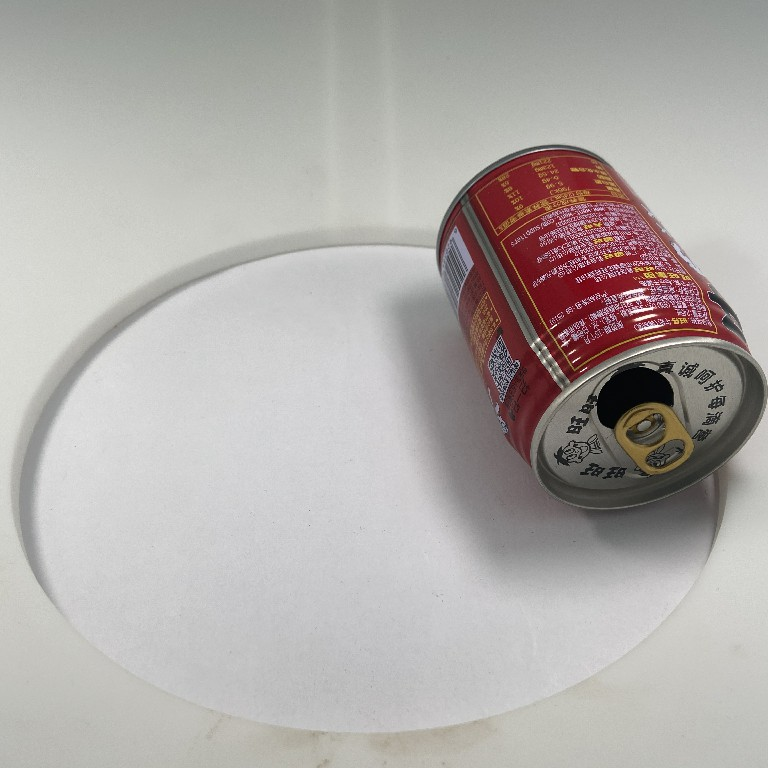can: (431, 139, 768, 518)
